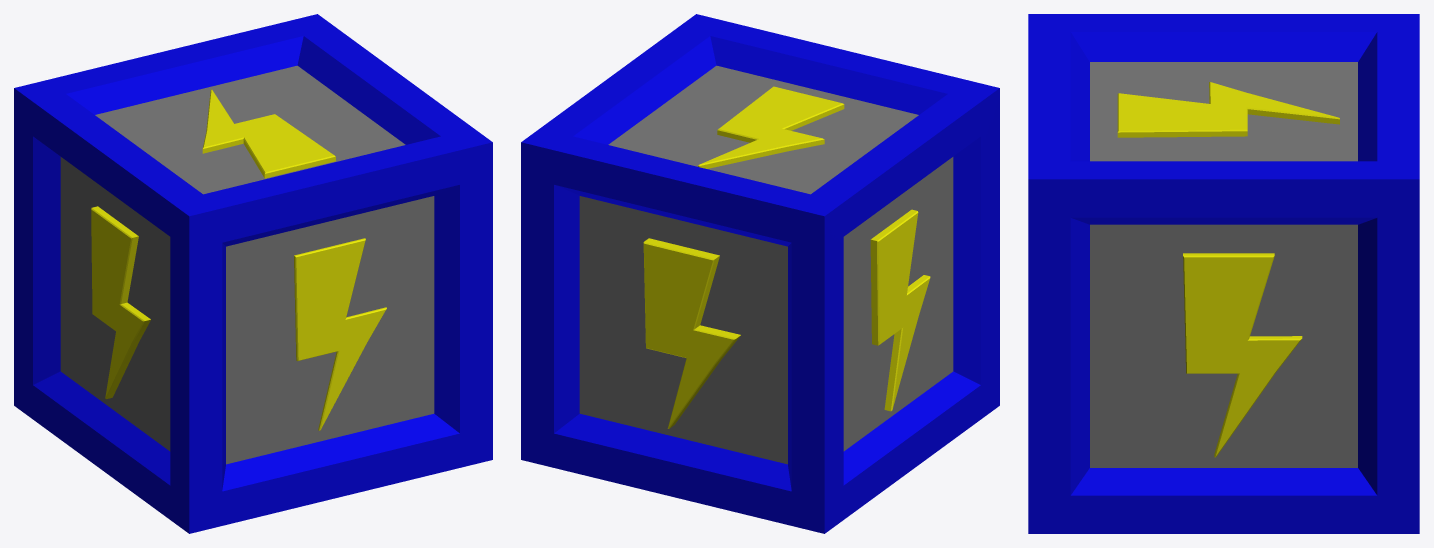
File: Cub_3.fbx
3 views of the same model, side by side, from view 1: azimuth 30°, elevation 25°; view 2: azimuth 150°, elevation 25°; view 3: azimuth 270°, elevation 25° (orthographic). The views are drawn at different scales.
Parts seen in each view (by area): view 1: pCube24; view 2: pCube24; view 3: pCube24.
Part boxes in pixels (bbox=[...]): pCube24: bbox=[14, 14, 492, 533]; pCube24: bbox=[521, 14, 999, 533]; pCube24: bbox=[1028, 14, 1419, 533].
Size of the model in its own units: 1 by 1 by 1.
